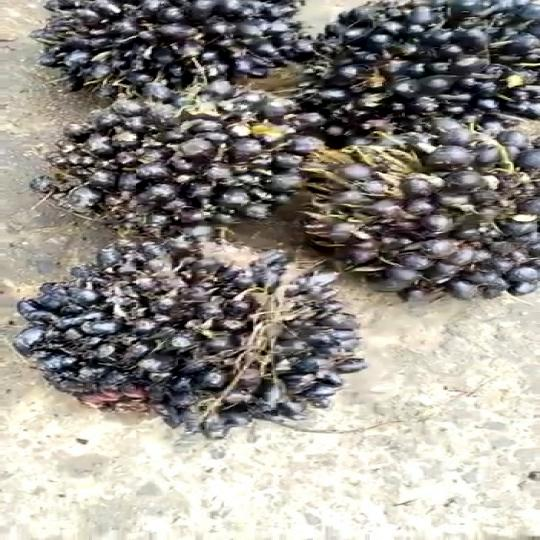mentah: (3, 226, 400, 448), (39, 69, 302, 265), (271, 127, 540, 305), (313, 0, 538, 150), (50, 2, 314, 108)
